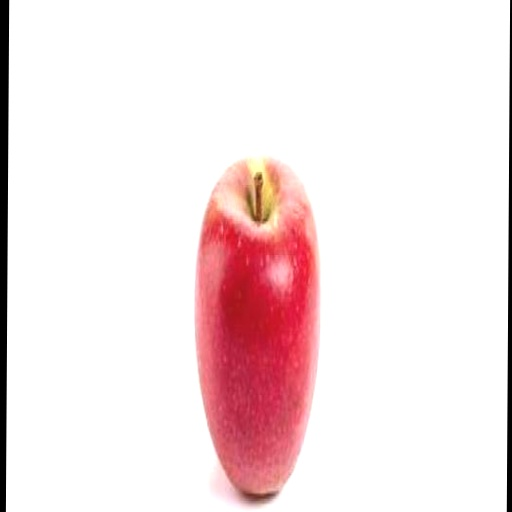fruit: (195, 157, 320, 495)
